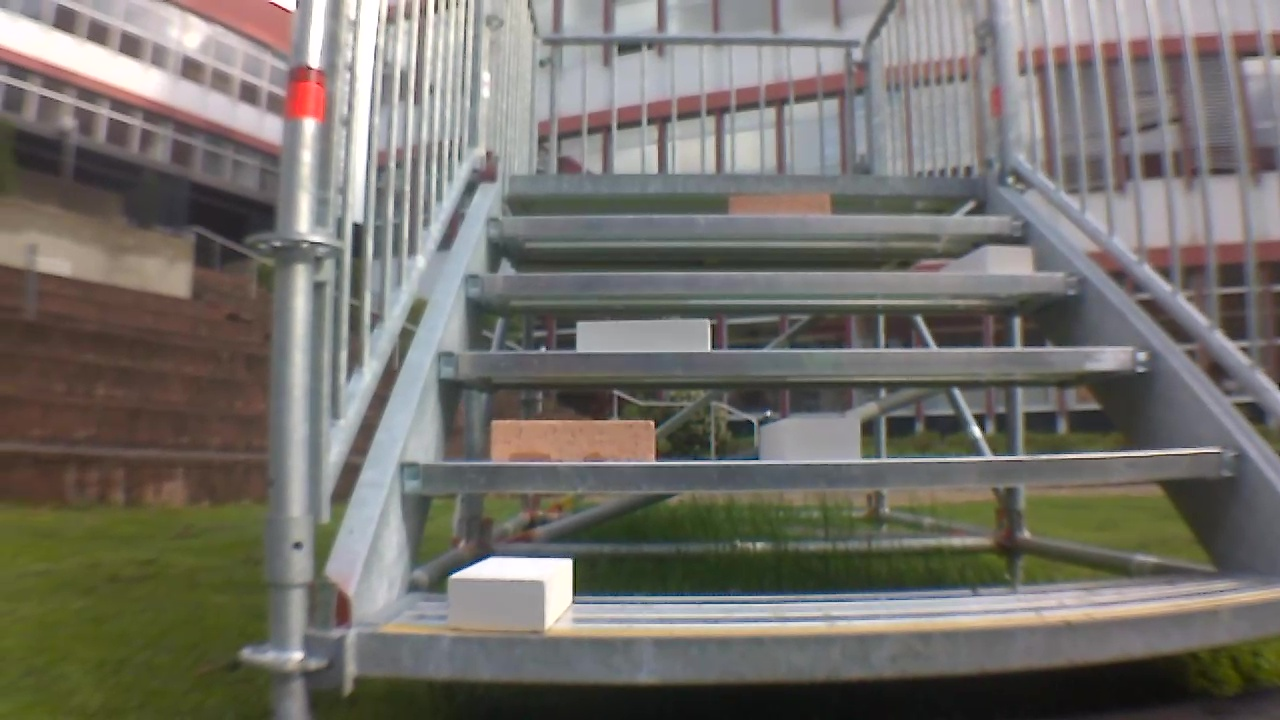brick: (449, 558, 572, 632), (491, 421, 654, 462), (762, 418, 859, 461), (578, 320, 710, 351), (729, 192, 830, 215), (944, 246, 1033, 272)
edge: (347, 595, 1280, 682), (403, 450, 1234, 494), (439, 347, 1150, 375), (463, 271, 1083, 294), (486, 215, 1032, 235), (507, 172, 980, 192)
stairs: (251, 1, 1280, 710)
steps: (334, 166, 1280, 700)
